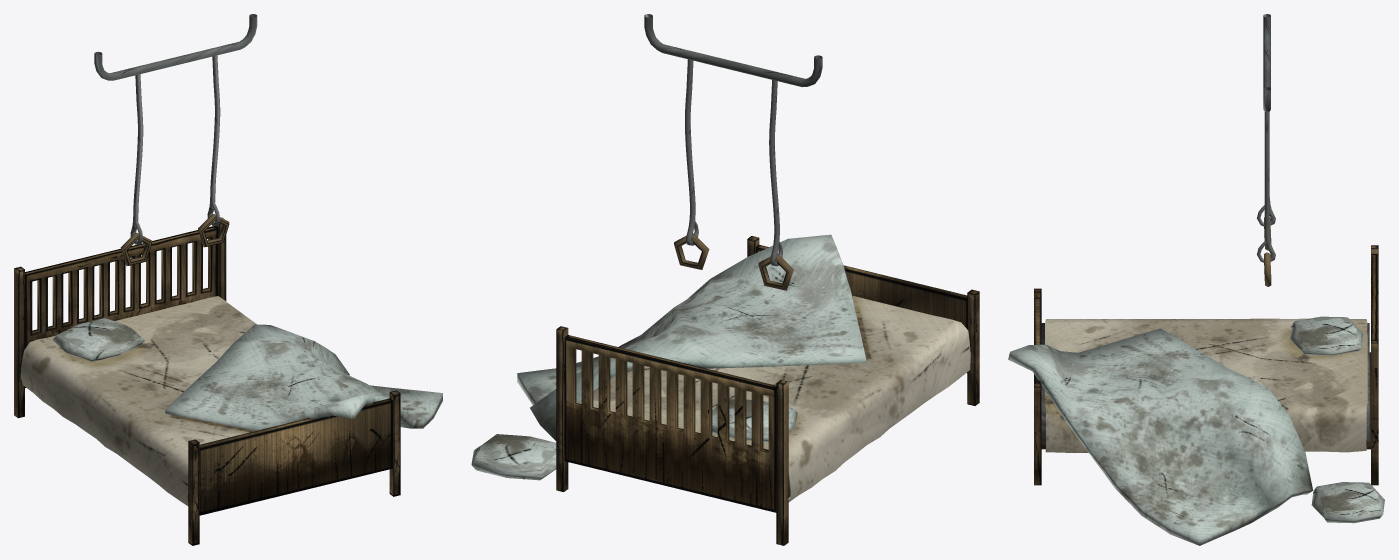
The model's file is DadsBed.fbx.
3 views of the same model, side by side, from view 1: azimuth 30°, elevation 25°; view 2: azimuth 150°, elevation 25°; view 3: azimuth 270°, elevation 25° (orthographic). The views are drawn at different scales.
Visible parts, largest first — view 1: Dads_Bed, BodyLift; view 2: Dads_Bed, BodyLift; view 3: Dads_Bed, BodyLift.
Boxes of the visible parts, box(x1,y1,x2,y2) form: Dads_Bed: box(14, 217, 442, 545); BodyLift: box(94, 14, 257, 266); Dads_Bed: box(471, 234, 979, 545); BodyLift: box(644, 14, 822, 290); Dads_Bed: box(1008, 245, 1384, 545); BodyLift: box(1257, 14, 1275, 286).
Bounding box in the file's own units: 3.12 × 3.55 × 3.13.
